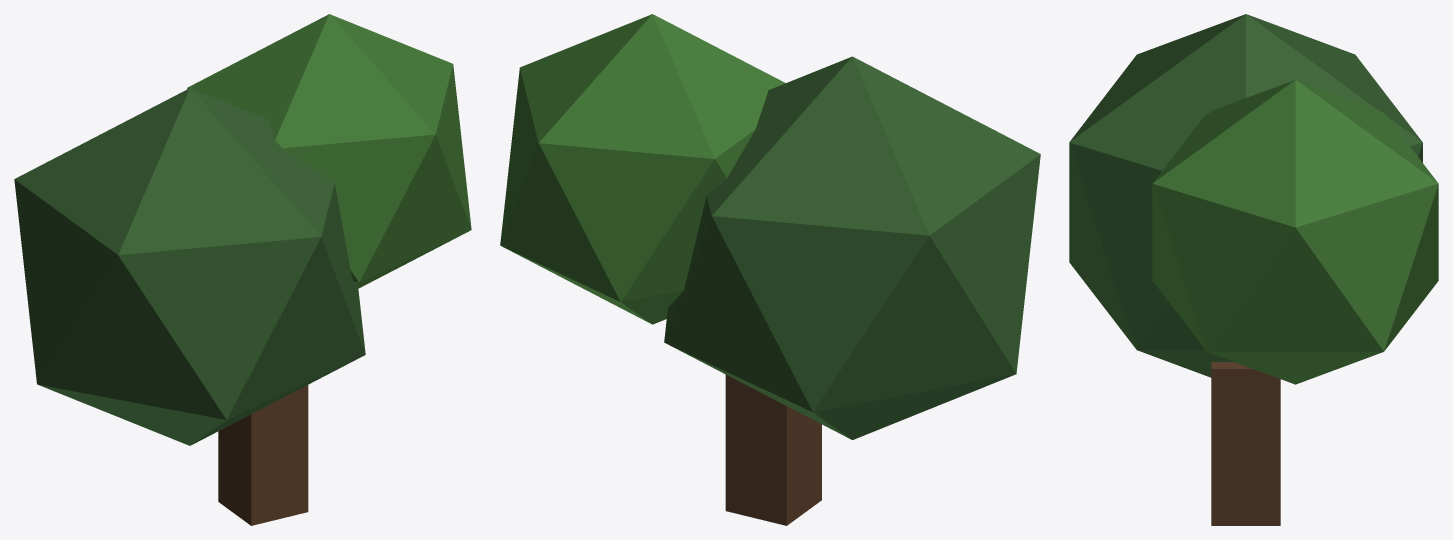
Rendered from tree_bush.glb.
3 renders of one model, left to right at view 1: azimuth 30°, elevation 25°; view 2: azimuth 150°, elevation 25°; view 3: azimuth 270°, elevation 25°, orthographic. The views are drawn at different scales.
Visible parts, largest first — view 1: tree_bush; view 2: tree_bush; view 3: tree_bush.
Boxes of the visible parts, box(x1,y1,x2,y2) form: tree_bush: box(14, 14, 471, 525); tree_bush: box(500, 14, 1040, 525); tree_bush: box(1069, 14, 1438, 525).
Bounding box in the file's own units: 1.08 × 1.07 × 0.7465.
1 material, 1 textured.
